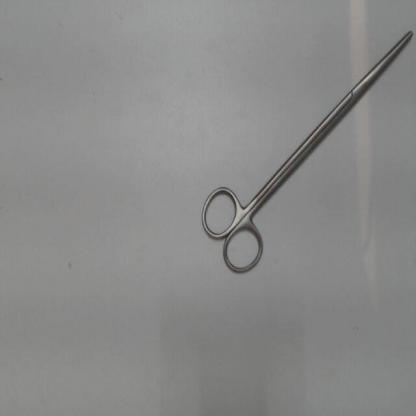9 Metzenbaum Scissors: (193, 29, 415, 284)
